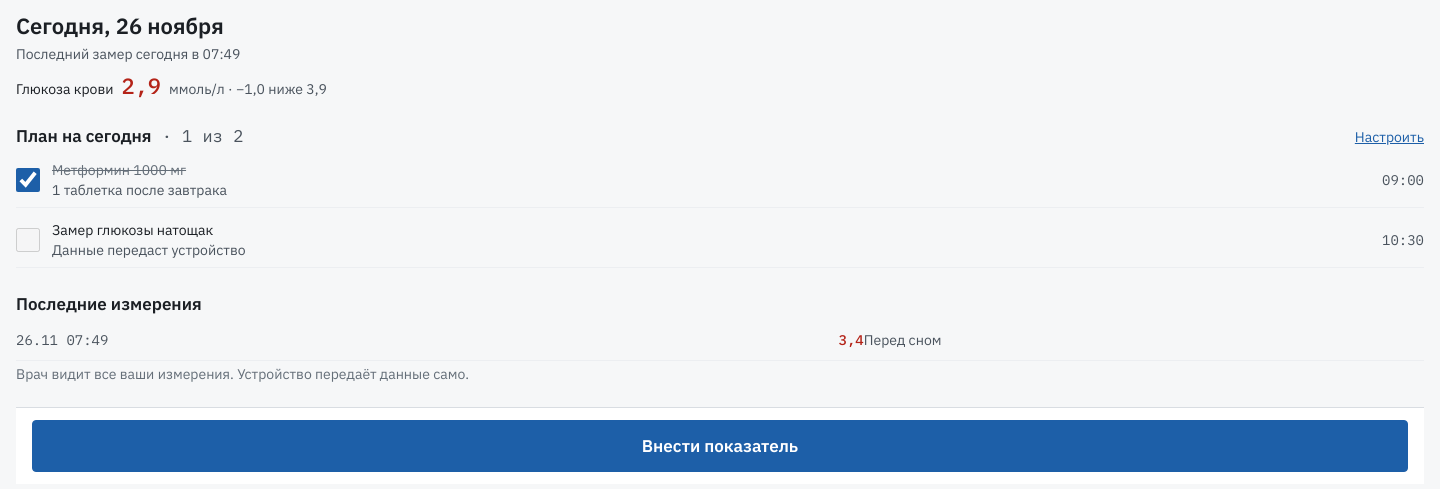
Scenario: PatientHome › отмечает приём лекарства
This screenshot has width=1440, height=489.
Click the checkbox labelled "Метформин 1000 мг 1 таблетка после завтрака 09:00" at (28, 180), box [16,168,40,192]
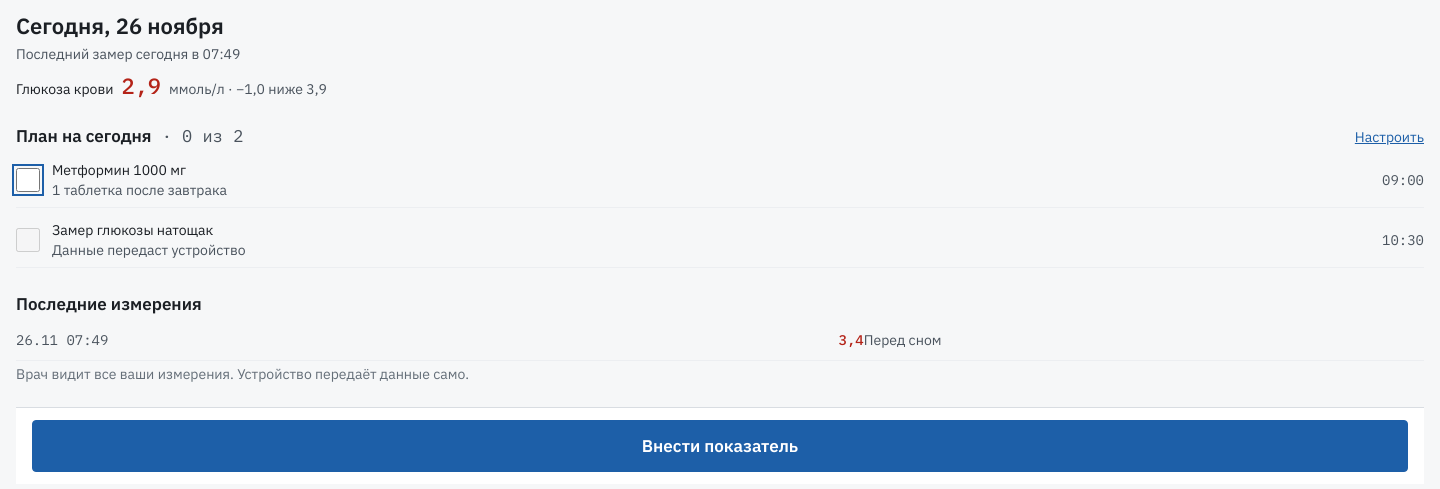
Now the checkbox labelled "Метформин 1000 мг 1 таблетка после завтрака 09:00" is not checked, box [16,168,40,192]
Now the heading "План на сегодня · 0 из 2" is shown, box [16,124,243,148]
